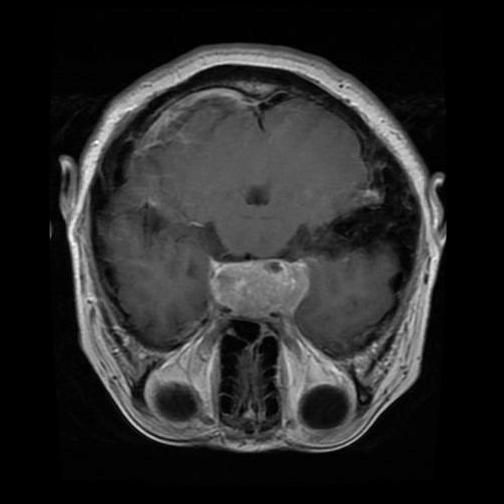Tumour-Pituitary: (208, 253, 310, 315)
